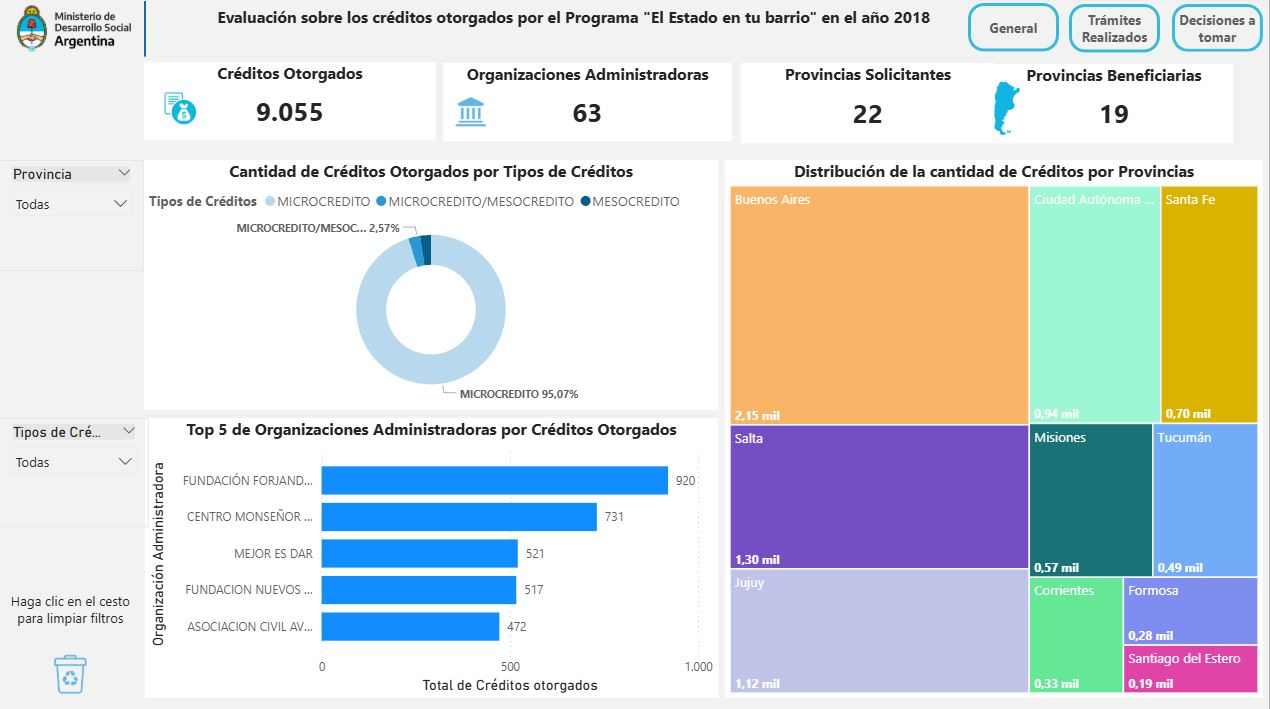

What the dashboard file says about the page in this screenshot:
{"tool":"powerbi","page":{"name":"Créditos Otorgados","canvas":[1280,720],"ordinal":3},"visuals":[{"type":"image","title":"Logo","box":[0,4,151.2,57.4],"z":0},{"type":"card","title":"Organizaciones Administradoras","fields":{"Values":["Medidas.Cantidad de Instituciones"]},"box":[447.5,67.5,291.4,78.6],"z":0,"group":"g2"},{"type":"card","title":"Provincias Solicitantes","fields":{"Values":["Medidas.Cant. Pcias Solicitantes"]},"box":[747.8,67.5,255.8,80.6],"z":0,"group":"g1"},{"type":"image","box":[146.6,88,79.7,52.7],"z":0,"group":"g3"},{"type":"card","title":"Créditos Otorgados","fields":{"Values":["Medidas.Total de Créditos otorgados"]},"box":[146.1,66.5,294.1,78.6],"z":1000,"group":"g4"},{"type":"card","title":"Provincias Beneficiarias","fields":{"Values":["Medidas.Cant. Pcias Beneficiarias"]},"box":[1004.3,68,239.7,79.8],"z":1000,"group":"g1"},{"type":"image","box":[447.5,88.9,56.6,56],"z":1000,"group":"g2"},{"type":"shape","title":"Separador logo y título","box":[120.9,5,52.4,56.4],"z":2000},{"type":"image","box":[955.5,79.6,120.8,66.9],"z":2000,"group":"g1"},{"type":"textbox","title":"Título","box":[186.7,4.8,785.5,56.6],"z":3000},{"type":"treemap","title":"Distribución de la cantidad de Créditos por Provincias                              ","fields":{"Group":["Provincias.Provincia"],"Values":["Sum(Crédito O.Cantidad de Créditos)"]},"box":[731.7,165.3,542.2,542.2],"z":4000},{"type":"actionButton","title":"Botón navegación Decisiones a tomar","box":[1181.9,8.4,91.6,48.2],"z":5500},{"type":"actionButton","title":"Botón Navegación Trámites","box":[1078.6,8.3,91.7,48.8],"z":7000},{"type":"actionButton","title":"Botón Navegación General","box":[976.2,7.1,91.7,48.8],"z":7500},{"type":"image","title":"Tachito","box":[43,647,56.9,73.2],"z":7750},{"type":"textbox","title":"Texto tachito","box":[0,595.9,144,51.1],"z":8000},{"type":"clusteredBarChart","title":"Top 5 de Organizaciones Administradoras por Créditos Otorgados","fields":{"Category":["Crédito Otorgados.Organización Administradora"],"Y":["Medidas.Total de Créditos otorgados"]},"box":[147.1,425.3,577.5,282.2],"z":10000},{"type":"donutChart","title":" Cantidad de Créditos Otorgados por Tipos de Créditos","fields":{"Y":["Sum(Crédito Otorgados.Cantidad de Créditos)"],"Category":["Creditos_Tipos.Tipos de Créditos"]},"box":[146.1,165.3,578.5,252],"z":11000},{"type":"slicer","title":"Filtro Pcias","fields":{"Values":["Provincias.Provincia"]},"box":[0,164.9,146.4,111.5],"z":11500},{"type":"slicer","title":"Filtro Tipos de créditos","fields":{"Values":["Creditos_Tipos.Tipos de Créditos"]},"box":[0,425.1,151,110.3],"z":12000},{"type":"group","id":"g1","title":"Indicador Pcias","box":[747.8,67.5,496,80.6],"z":13000},{"type":"group","id":"g2","title":"Indicador cantidad de Org Adm.","box":[447.5,67.5,292,78.6],"z":14000},{"type":"group","id":"g3","title":"Indicador Crédito Ot","box":[146.1,66.5,294,77.6],"z":15000},{"type":"group","id":"g4","title":"Grupo 2","box":[146.1,66.5,294.1,78.6],"z":15001,"group":"g3"},{"type":"image","box":[159.2,89,47,49.5],"z":15001,"group":"g4"}]}

Visuals, with their boxes in screenshot pixels (x1, y1, x2, y2), scaled from the page's 1280x720 canvas onto the 1270x709 screenshot:
"Logo" image: BBox(0, 4, 150, 60)
"Organizaciones Administradoras" card: BBox(444, 66, 733, 144)
"Provincias Solicitantes" card: BBox(742, 66, 996, 146)
image: BBox(145, 87, 225, 139)
"Créditos Otorgados" card: BBox(145, 65, 437, 143)
"Provincias Beneficiarias" card: BBox(996, 67, 1234, 146)
image: BBox(444, 88, 500, 143)
"Separador logo y título" shape: BBox(120, 5, 172, 60)
image: BBox(948, 78, 1068, 144)
"Título" textbox: BBox(185, 5, 965, 60)
"Distribución de la cantidad de Créditos por Provincias                              " treemap: BBox(726, 163, 1264, 697)
"Botón navegación Decisiones a tomar" actionButton: BBox(1173, 8, 1264, 56)
"Botón Navegación Trámites" actionButton: BBox(1070, 8, 1161, 56)
"Botón Navegación General" actionButton: BBox(969, 7, 1060, 55)
"Tachito" image: BBox(43, 637, 99, 708)
"Texto tachito" textbox: BBox(0, 587, 143, 637)
"Top 5 de Organizaciones Administradoras por Créditos Otorgados" clusteredBarChart: BBox(146, 419, 719, 697)
" Cantidad de Créditos Otorgados por Tipos de Créditos" donutChart: BBox(145, 163, 719, 411)
"Filtro Pcias" slicer: BBox(0, 162, 145, 272)
"Filtro Tipos de créditos" slicer: BBox(0, 419, 150, 527)
"Indicador Pcias" group: BBox(742, 66, 1234, 146)
"Indicador cantidad de Org Adm." group: BBox(444, 66, 734, 144)
"Indicador Crédito Ot" group: BBox(145, 65, 437, 142)
"Grupo 2" group: BBox(145, 65, 437, 143)
image: BBox(158, 88, 205, 136)
